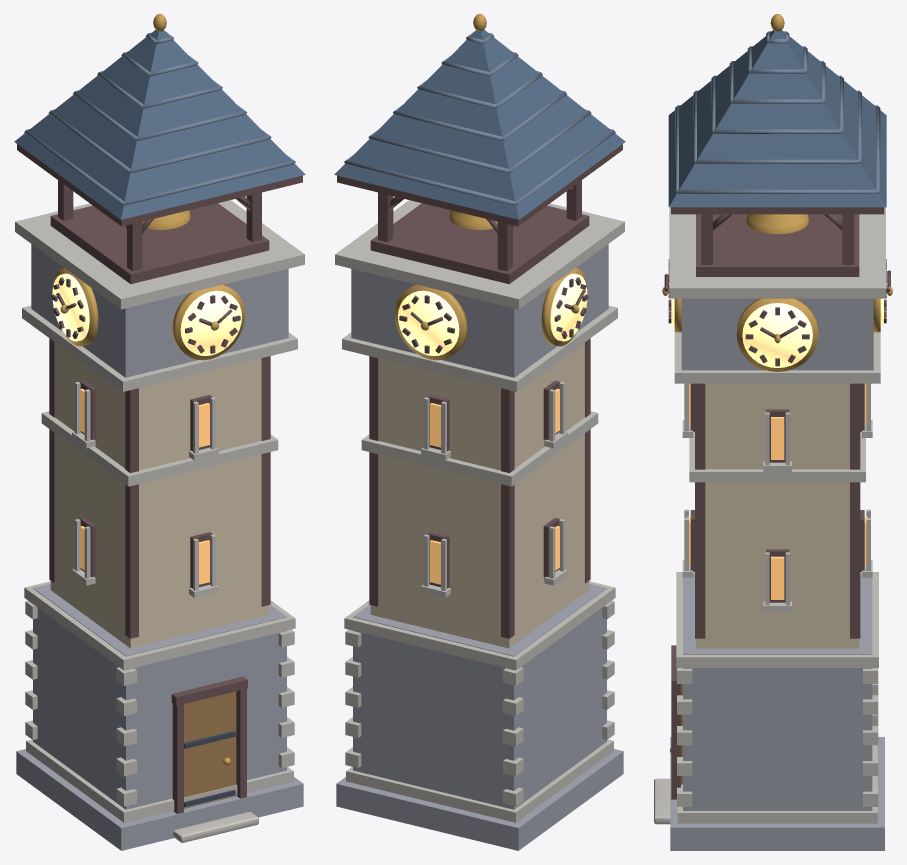
File: clock_tower.glb
The picture shows the model from 3 angles, left to right: view 1: azimuth 30°, elevation 25°; view 2: azimuth 150°, elevation 25°; view 3: azimuth 270°, elevation 25°; orthographic projection.
Visible parts, largest first — view 1: Clock_tower_slim_shaft, Clock_tower_lower_base, Clock_tower_slate_spire, Clock_tower_clock_stage, Clock_tower_belfry_floor, Clock_tower_limestone_course.004, Clock_tower_stone_plinth, Clock_tower_front_oak_door, Clock_tower_limestone_course.001, Clock_tower_limestone_course.003, Clock_tower_limestone_course.002, Clock_tower_vertical_timber (+17 smaller); view 2: Clock_tower_slim_shaft, Clock_tower_lower_base, Clock_tower_slate_spire, Clock_tower_clock_stage, Clock_tower_belfry_floor, Clock_tower_limestone_course.004, Clock_tower_stone_plinth, Clock_tower_limestone_course.001, Clock_tower_limestone_course.003, Clock_tower_limestone_course, Clock_tower_limestone_course.002, Clock_tower_vertical_timber.001 (+12 smaller); view 3: Clock_tower_slim_shaft, Clock_tower_lower_base, Clock_tower_slate_spire, Clock_tower_clock_stage, Clock_tower_limestone_course.004, Clock_tower_belfry_floor, Clock_tower_stone_plinth, Clock_tower_limestone_course.001, Clock_tower_limestone_course.003, Clock_tower_emissive_clock_face.001, Clock_tower_limestone_course, Clock_tower_limestone_course.002 (+14 smaller).
Part boxes in pixels (x1,y1,x2,y2): Clock_tower_slim_shaft: [50, 342, 269, 648]; Clock_tower_lower_base: [33, 583, 286, 809]; Clock_tower_slate_spire: [14, 30, 305, 219]; Clock_tower_clock_stage: [31, 244, 288, 377]; Clock_tower_belfry_floor: [50, 203, 269, 283]; Clock_tower_limestone_course.004: [15, 200, 304, 309]; Clock_tower_stone_plinth: [16, 749, 303, 850]; Clock_tower_front_oak_door: [184, 691, 236, 808]; Clock_tower_limestone_course.001: [24, 581, 295, 670]; Clock_tower_limestone_course.003: [22, 305, 297, 391]; Clock_tower_limestone_course.002: [41, 411, 278, 486]; Clock_tower_vertical_timber: [125, 388, 138, 638]; Clock_tower_slim_shaft: [370, 342, 589, 648]; Clock_tower_lower_base: [353, 583, 606, 809]; Clock_tower_slate_spire: [334, 30, 625, 219]; Clock_tower_clock_stage: [351, 244, 608, 377]; Clock_tower_belfry_floor: [370, 203, 589, 283]; Clock_tower_limestone_course.004: [335, 200, 624, 309]; Clock_tower_stone_plinth: [336, 749, 623, 850]; Clock_tower_limestone_course.001: [344, 581, 615, 670]; Clock_tower_limestone_course.003: [342, 305, 617, 391]; Clock_tower_limestone_course: [346, 739, 613, 822]; Clock_tower_limestone_course.002: [361, 411, 598, 486]; Clock_tower_vertical_timber.001: [501, 388, 514, 638]; Clock_tower_slim_shaft: [696, 383, 859, 648]; Clock_tower_lower_base: [683, 574, 872, 810]; Clock_tower_slate_spire: [668, 30, 886, 207]; Clock_tower_clock_stage: [681, 298, 873, 370]; Clock_tower_limestone_course.004: [669, 207, 885, 298]; Clock_tower_belfry_floor: [696, 214, 859, 276]; Clock_tower_stone_plinth: [670, 737, 884, 850]; Clock_tower_limestone_course.001: [676, 572, 878, 667]; Clock_tower_limestone_course.003: [674, 332, 880, 383]; Clock_tower_emissive_clock_face.001: [742, 303, 812, 367]; Clock_tower_limestone_course: [677, 745, 877, 823]; Clock_tower_limestone_course.002: [689, 432, 865, 482].
Bounding box in the file's own units: 3.65 × 13.63 × 3.73.
